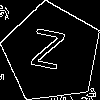Z: (27, 28, 66, 79)
